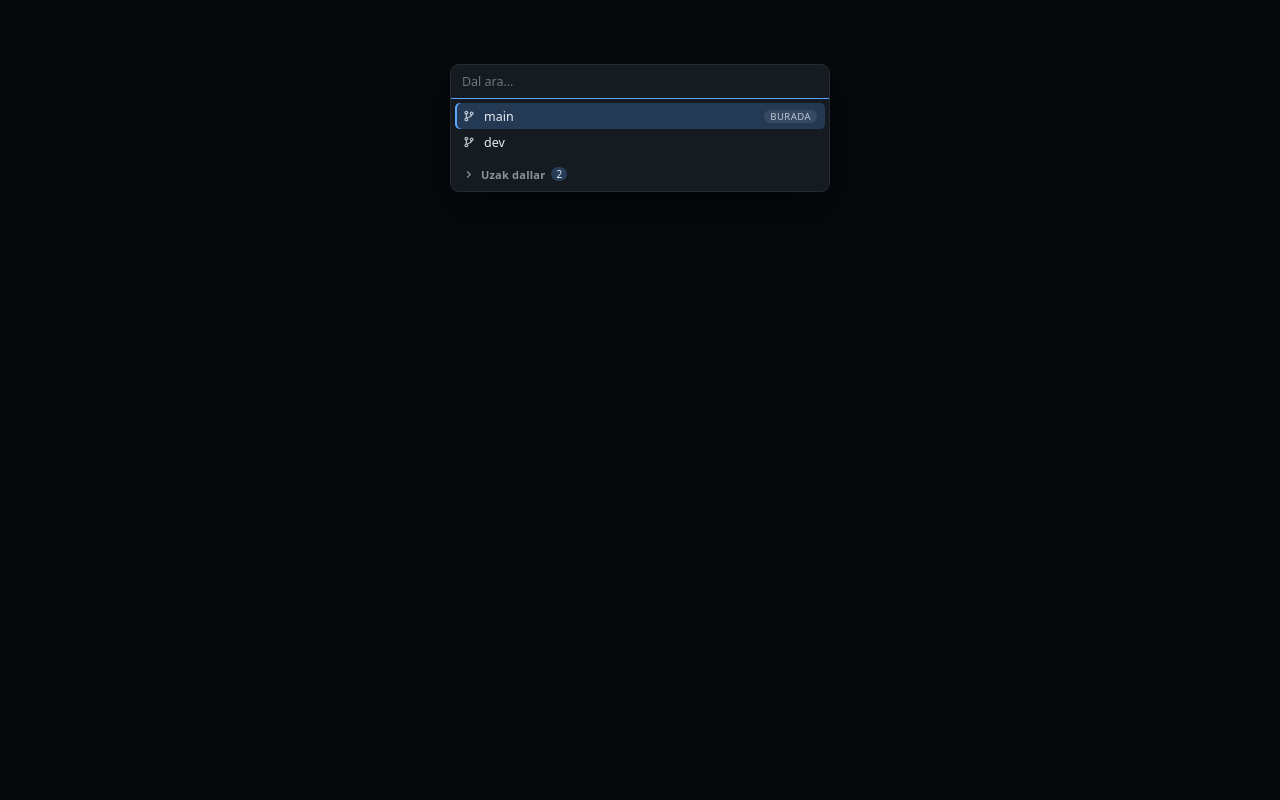
Test: arama › aramada başlık düz bir etiket: basılamıyor, katlamayı değiştirmiyor
Type "yeni" into the field with placeholder "Dal ara…". click: (640, 82)
box: x1=451 y1=65 x2=829 y2=99
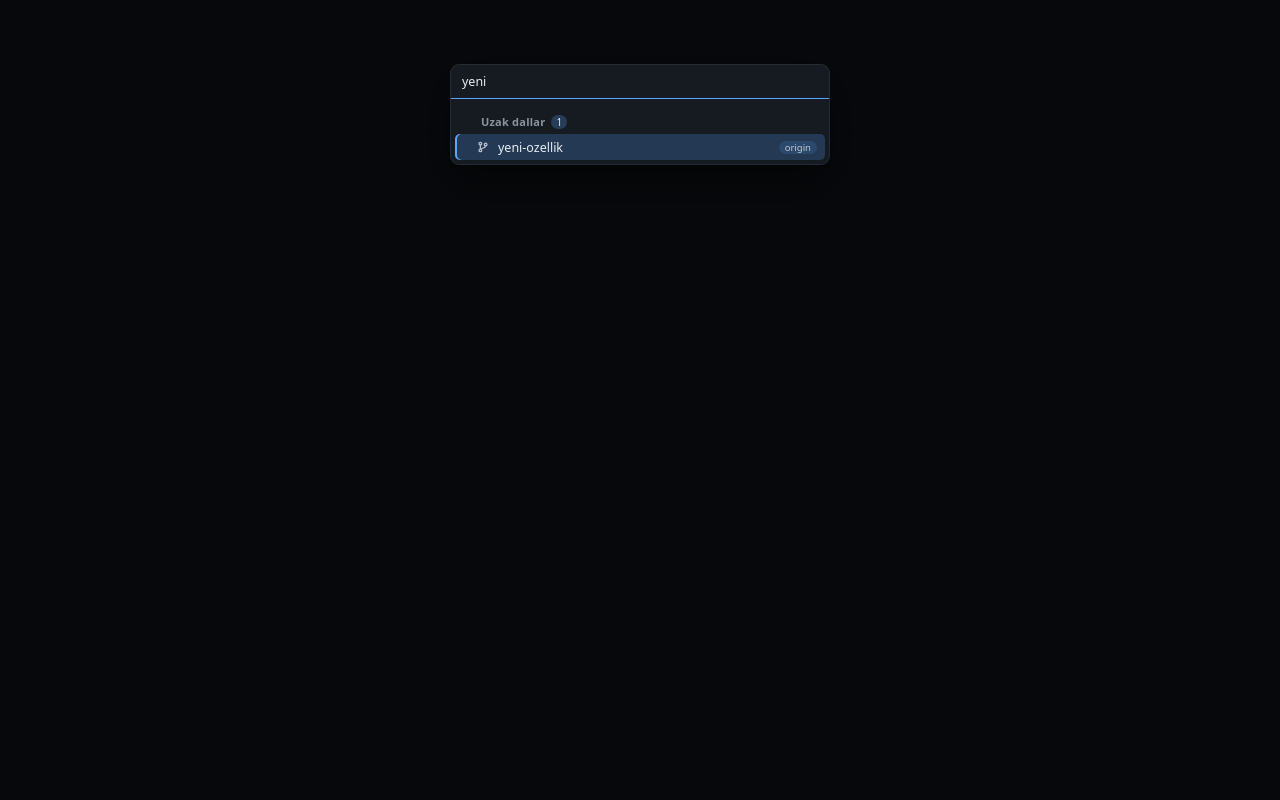
expect the element with class "static" shows "Uzak dallar": met, box x1=481 y1=114 x2=545 y2=129
expect the text "1" is shown: met, box x1=551 y1=114 x2=567 y2=128
